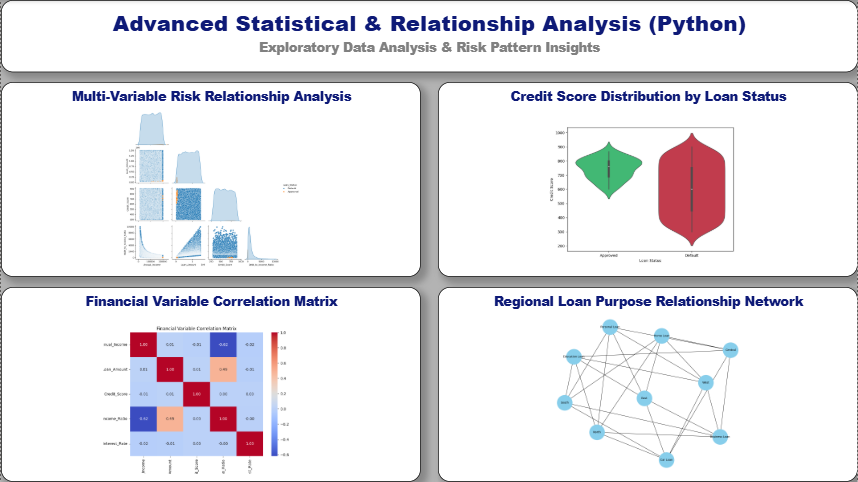

Layout of this report page (visuals, bound fields, positions):
{"tool":"powerbi","page":{"name":"Page 4","canvas":[1280,720],"ordinal":3},"visuals":[{"type":"pythonVisual","title":"Multi-Variable Risk Relationship Analysis","fields":{"Values":["banking_project credit_risk_data.Annual_Income","banking_project credit_risk_data.Loan_Amount","banking_project credit_risk_data.Credit_Score","banking_project credit_risk_data.Debt_to_Income_Ratio","banking_project credit_risk_data.Loan_Status"]},"box":[0,122.1,626.8,290.9],"z":0},{"type":"pythonVisual","title":"Credit Score Distribution by Loan Status","fields":{"Values":["banking_project credit_risk_data.Loan_Status","banking_project credit_risk_data.Credit_Score"]},"box":[652.5,122.1,626.8,290.9],"z":1000},{"type":"pythonVisual","title":"Financial Variable Correlation Matrix","fields":{"Values":["banking_project credit_risk_data.Annual_Income","banking_project credit_risk_data.Loan_Amount","banking_project credit_risk_data.Credit_Score","banking_project credit_risk_data.Debt_to_Income_Ratio","banking_project credit_risk_data.Interest_Rate"]},"box":[0,429.1,626.8,290.9],"z":2000},{"type":"pythonVisual","title":"Regional Loan Purpose Relationship Network","fields":{"Values":["banking_project credit_risk_data.Region","banking_project credit_risk_data.Loan_Purpose"]},"box":[652.5,429.1,626.8,290.9],"z":3000},{"type":"textbox","box":[0,0,1280.2,107.6],"z":4000}]}

Visuals, with their boxes in screenshot pixels (x1, y1, x2, y2), scaled from the page's 1280x720 canvas onto the 858x482 screenshot:
"Multi-Variable Risk Relationship Analysis" pythonVisual: 0:82:420:276
"Credit Score Distribution by Loan Status" pythonVisual: 437:82:857:276
"Financial Variable Correlation Matrix" pythonVisual: 0:287:420:481
"Regional Loan Purpose Relationship Network" pythonVisual: 437:287:857:481
textbox: 0:0:857:72
